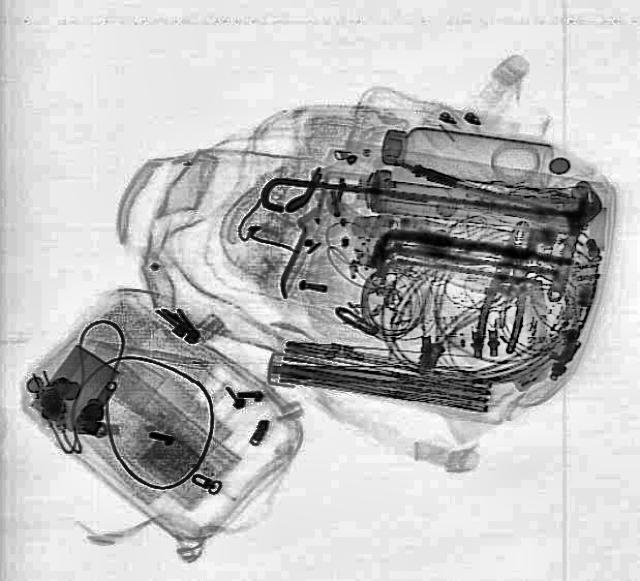Pliers: (468, 214, 544, 362)
Wrench: (537, 184, 605, 304)
